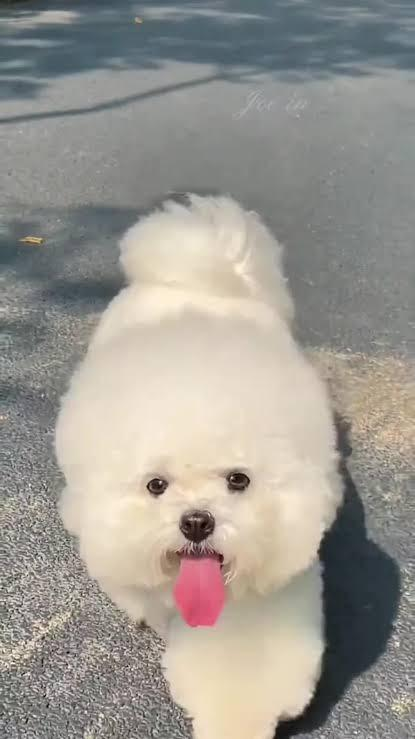adult_dog: (49, 191, 349, 739)
